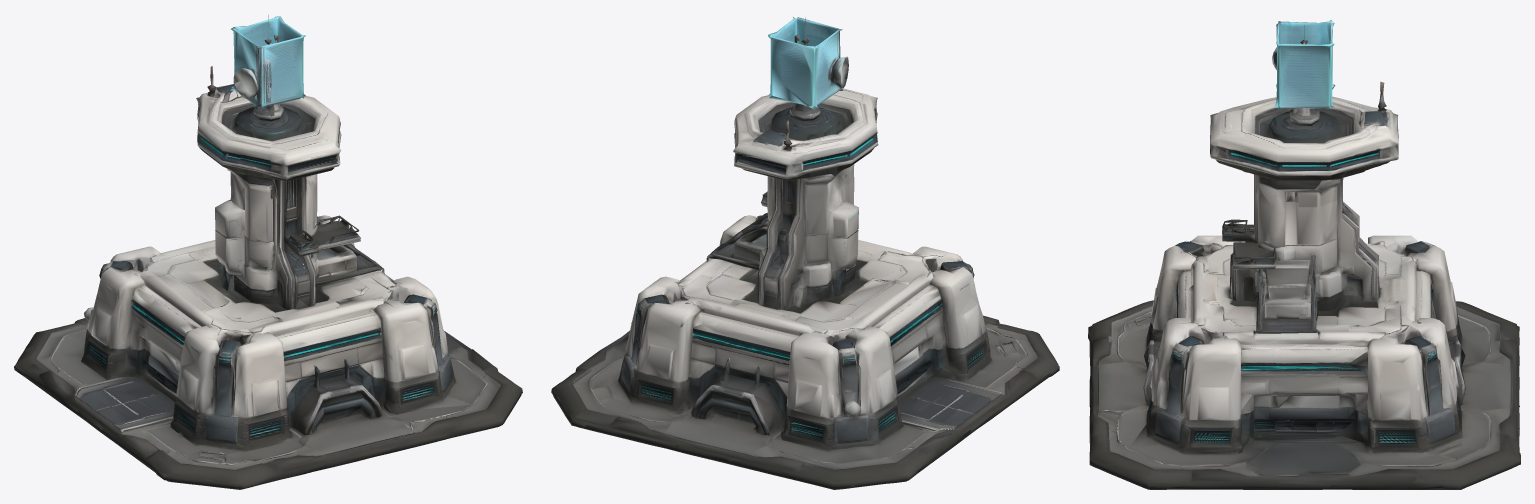
File: Command HQ - Split-CC7fwFtQ.glb
3 renders of one model, left to right at view 1: azimuth 30°, elevation 25°; view 2: azimuth 150°, elevation 25°; view 3: azimuth 270°, elevation 25°, orthographic. The views are drawn at different scales.
Parts seen in each view (by area): view 1: tripo_part_0, tripo_part_3, tripo_part_5, tripo_part_1, tripo_part_7, tripo_part_4, tripo_part_9, tripo_part_6, tripo_part_2, tripo_part_10; view 2: tripo_part_0, tripo_part_3, tripo_part_5, tripo_part_1, tripo_part_4, tripo_part_8, tripo_part_6, tripo_part_10, tripo_part_13, tripo_part_2, tripo_part_11; view 3: tripo_part_0, tripo_part_8, tripo_part_1, tripo_part_9, tripo_part_4, tripo_part_5, tripo_part_12, tripo_part_2, tripo_part_3, tripo_part_6, tripo_part_7, tripo_part_11 (+1 smaller).
Part boxes in pixels (left/top/right/bottom): tripo_part_0: left=14, top=318, right=522, bottom=489; tripo_part_3: left=81, top=246, right=292, bottom=451; tripo_part_5: left=140, top=240, right=395, bottom=335; tripo_part_1: left=196, top=84, right=341, bottom=180; tripo_part_7: left=274, top=315, right=385, bottom=435; tripo_part_4: left=227, top=168, right=317, bottom=309; tripo_part_9: left=371, top=274, right=471, bottom=414; tripo_part_6: left=230, top=16, right=305, bottom=109; tripo_part_2: left=284, top=215, right=383, bottom=286; tripo_part_10: left=215, top=201, right=244, bottom=290; tripo_part_0: left=551, top=313, right=1059, bottom=489; tripo_part_3: left=781, top=246, right=993, bottom=451; tripo_part_5: left=678, top=240, right=933, bottom=335; tripo_part_1: left=733, top=88, right=878, bottom=180; tripo_part_4: left=757, top=164, right=855, bottom=309; tripo_part_8: left=619, top=276, right=704, bottom=409; tripo_part_6: left=767, top=17, right=848, bottom=108; tripo_part_10: left=826, top=200, right=858, bottom=296; tripo_part_13: left=691, top=381, right=773, bottom=435; tripo_part_2: left=707, top=191, right=767, bottom=270; tripo_part_11: left=788, top=17, right=820, bottom=121; tripo_part_0: left=1088, top=271, right=1520, bottom=489; tripo_part_8: left=1268, top=318, right=1461, bottom=448; tripo_part_1: left=1210, top=96, right=1398, bottom=181; tripo_part_9: left=1128, top=318, right=1270, bottom=454; tripo_part_4: left=1230, top=174, right=1379, bottom=310; tripo_part_5: left=1185, top=243, right=1418, bottom=347; tripo_part_12: left=1241, top=344, right=1367, bottom=440; tripo_part_2: left=1222, top=219, right=1322, bottom=336; tripo_part_3: left=1146, top=235, right=1462, bottom=347; tripo_part_6: left=1272, top=20, right=1335, bottom=109; tripo_part_7: left=1143, top=270, right=1193, bottom=406; tripo_part_11: left=1290, top=25, right=1319, bottom=126.
Bounding box in the file's own units: 0.9996 × 0.9869 × 1.
17 materials, 17 textured.
